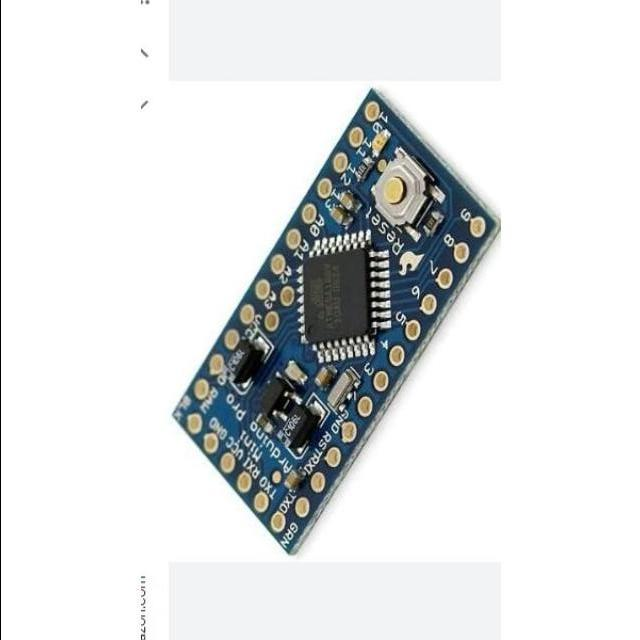Arduino-ProMini: (174, 90, 500, 553)
